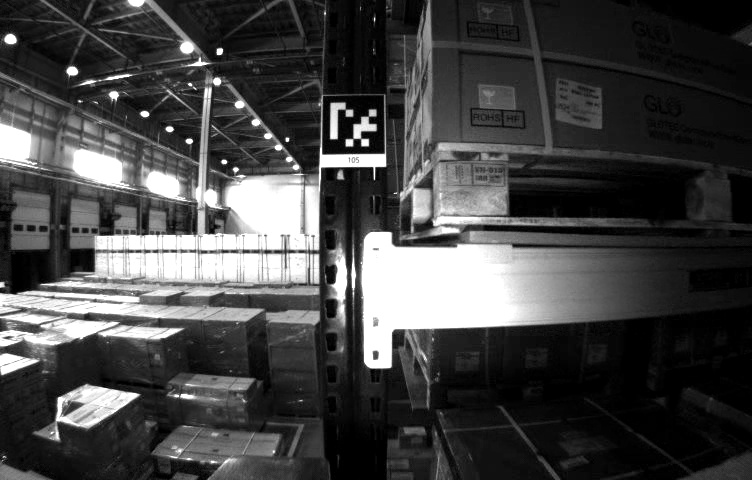True Barcode: (551, 76, 605, 133)
